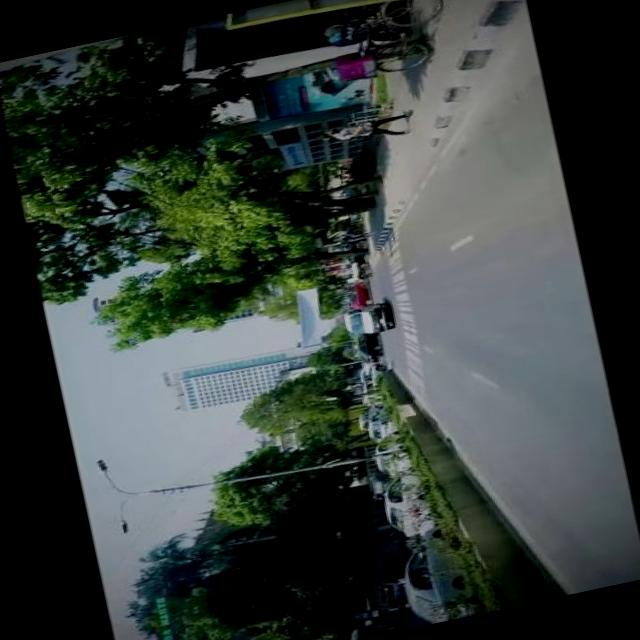car: (390, 525, 466, 628), (372, 467, 432, 541), (366, 432, 405, 474), (354, 364, 386, 406), (350, 332, 379, 367), (358, 410, 389, 442), (340, 280, 370, 310)
truck: (336, 302, 389, 340), (351, 404, 380, 432)
